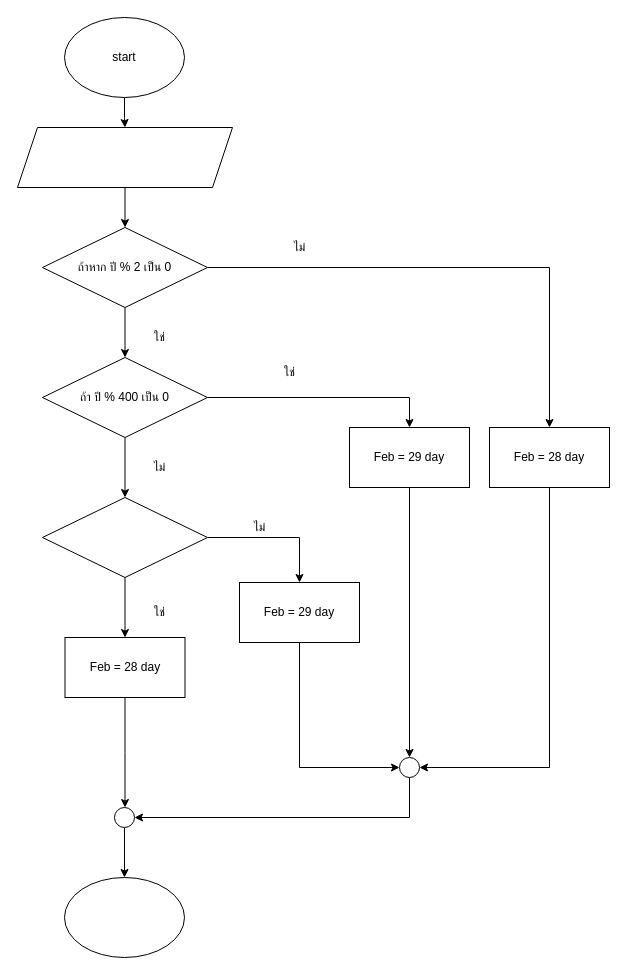
Image size: 627x975. Some labels were removed from this diagram. The shapes that lost their labels are listed below. From the top down, each one's box as (x1, y1, x2, y2) in pixels, then its label:
(16, 126, 232, 188): รับค่าปีที่ต้องการจะหาค่า leap year = ปี
(42, 496, 208, 578): ถ้า ปี % 100 เป็น 0
(64, 876, 184, 958): end
